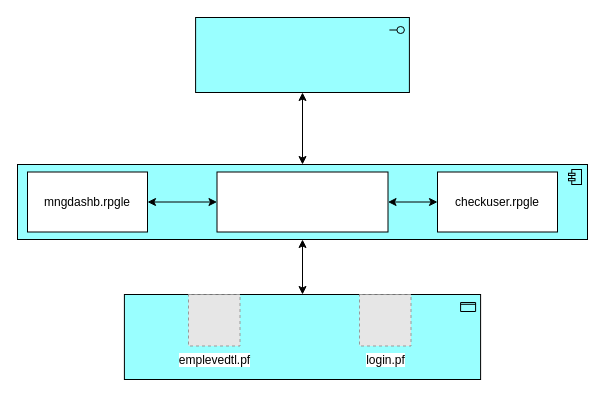
This 605x397 diagram has some shape labels left out. Grey dashed boxes stand in for pictures. Here are the shapes that lost their labels. From the top down, the centre of each, then its label:
(302,54): Application Interface
(302,201): levmngsysr.rpgle
